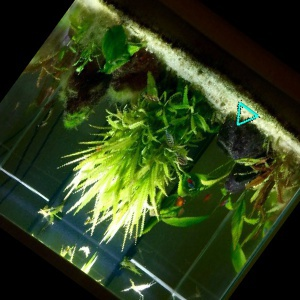triangle: (233, 98, 262, 128)
